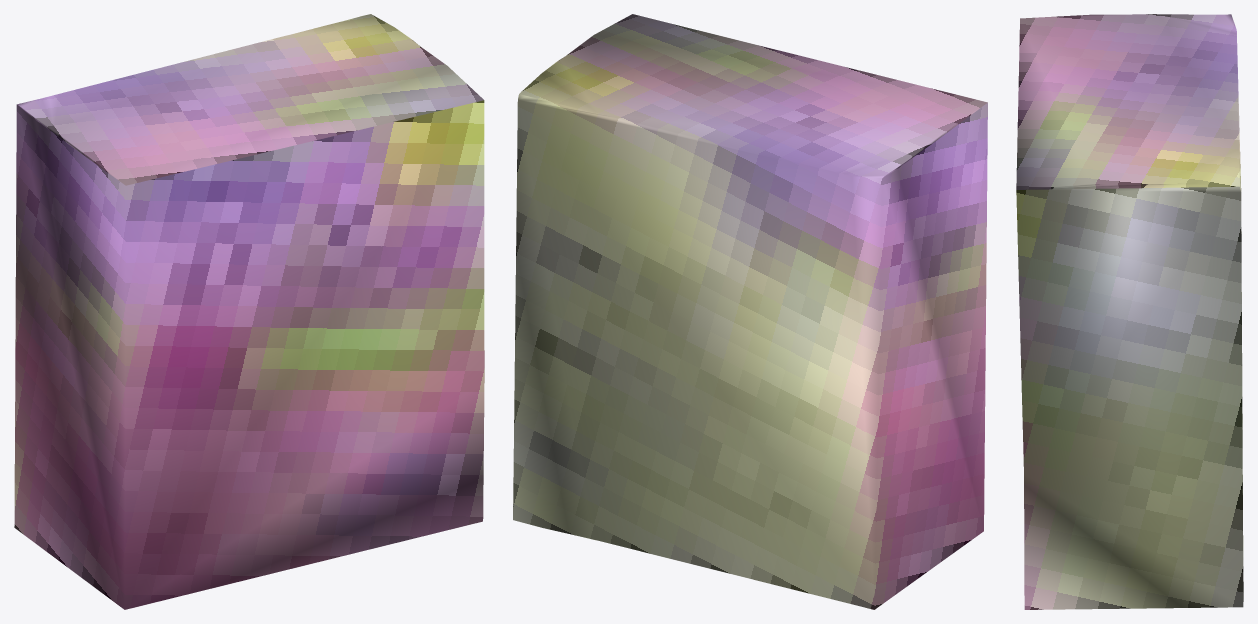
Rendered from Phillips_Colon_Health_Probiotic_Capsule-low.glb.
The picture shows the model from 3 angles, left to right: view 1: azimuth 30°, elevation 25°; view 2: azimuth 150°, elevation 25°; view 3: azimuth 270°, elevation 25°; orthographic projection.
Visible parts, largest first — view 1: Phillips_Colon_Health_Probiotic_Capsule; view 2: Phillips_Colon_Health_Probiotic_Capsule; view 3: Phillips_Colon_Health_Probiotic_Capsule.
Part boxes in pixels (bbox=[...]): Phillips_Colon_Health_Probiotic_Capsule: bbox=[14, 14, 484, 609]; Phillips_Colon_Health_Probiotic_Capsule: bbox=[513, 14, 987, 609]; Phillips_Colon_Health_Probiotic_Capsule: bbox=[1016, 14, 1243, 609].
Size of the model in its own units: 0.1023 by 0.1168 by 0.0564.
1 material, 1 textured.
